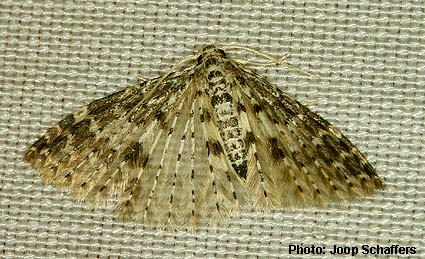Alucitidae: (25, 35, 392, 234)
moth: (23, 33, 390, 232)
